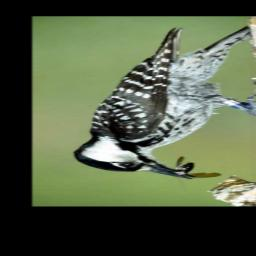Woodpecker: (72, 24, 252, 179)
